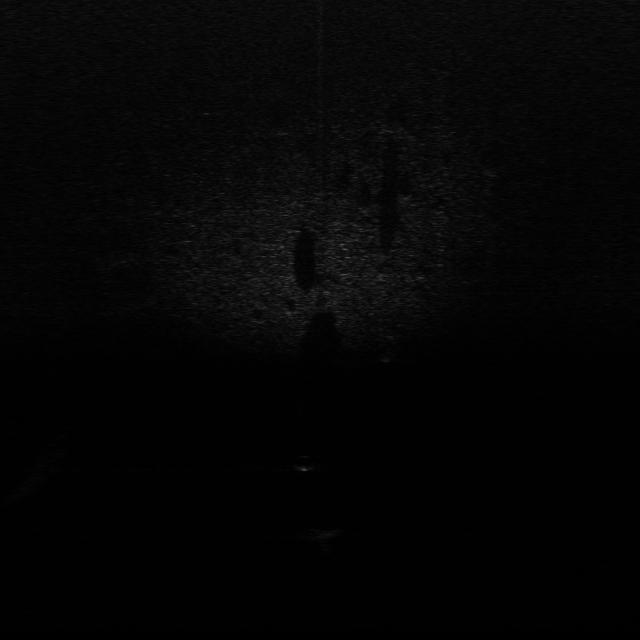ball: (292, 454, 318, 475)
square cage: (296, 526, 346, 550)
tyre: (376, 337, 406, 366)
